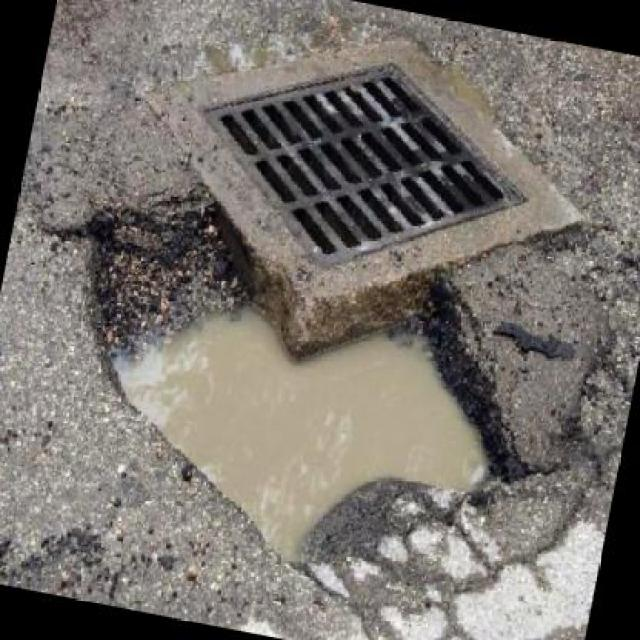pothole1: (26, 166, 566, 605)
